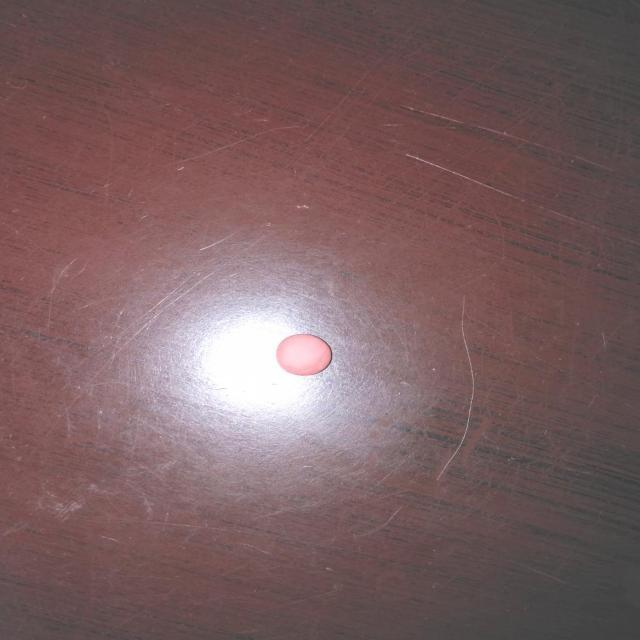pill: (273, 328, 338, 378)
